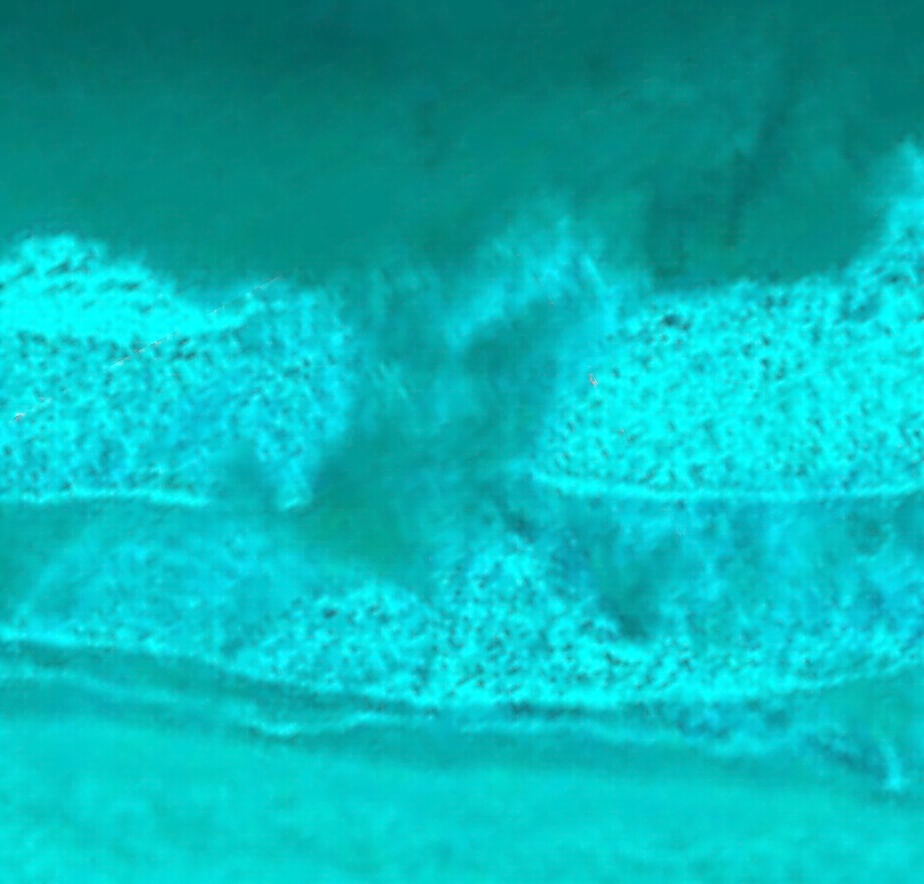rip_current: (234, 160, 635, 646)
